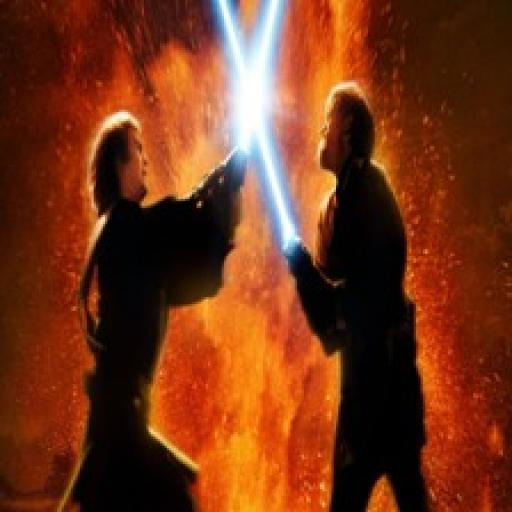human: (46, 104, 240, 512), (288, 75, 441, 512)
lightsaber: (192, 0, 315, 286), (215, 0, 289, 194)
